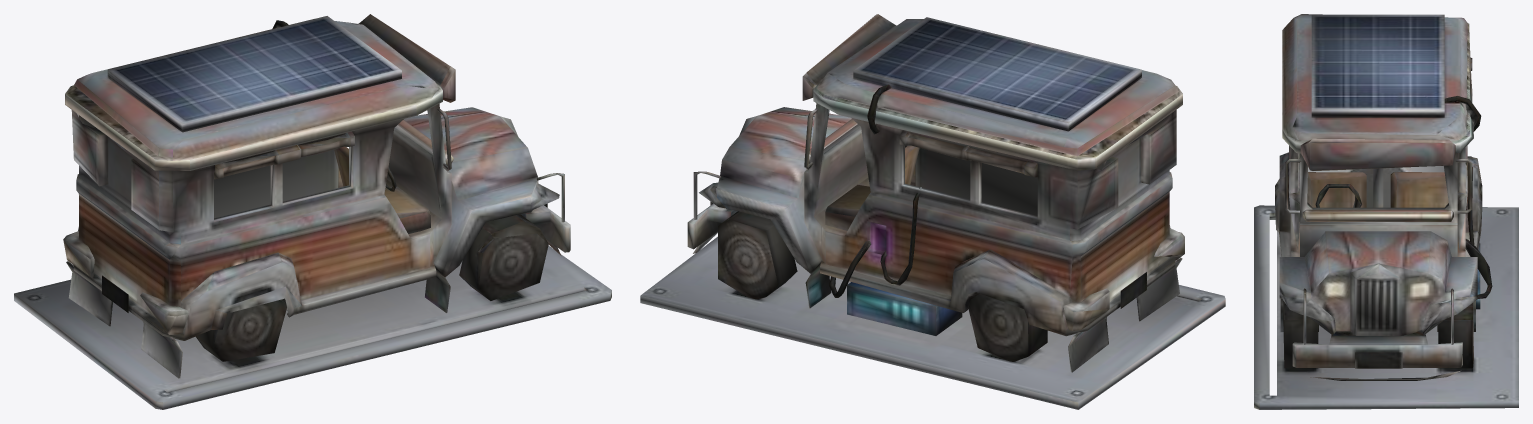
File: city_jeepney.glb
The picture shows the model from 3 angles, left to right: view 1: azimuth 30°, elevation 25°; view 2: azimuth 150°, elevation 25°; view 3: azimuth 270°, elevation 25°; orthographic projection. The views are drawn at different scales.
Visible parts, largest first — view 1: Body; view 2: Body; view 3: Body.
Boxes of the visible parts, x1,y1,x2,y2 form: Body: (14, 14, 611, 409); Body: (640, 14, 1225, 409); Body: (1254, 14, 1518, 409).
Size of the model in its own units: 6 by 3.14 by 3.39.
Materials: 1 (1 with a texture image).
